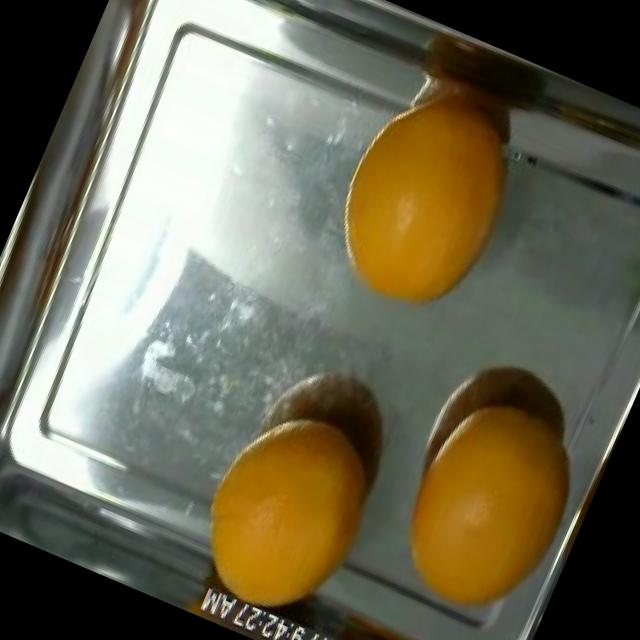Fruit: (299, 88, 541, 346)
